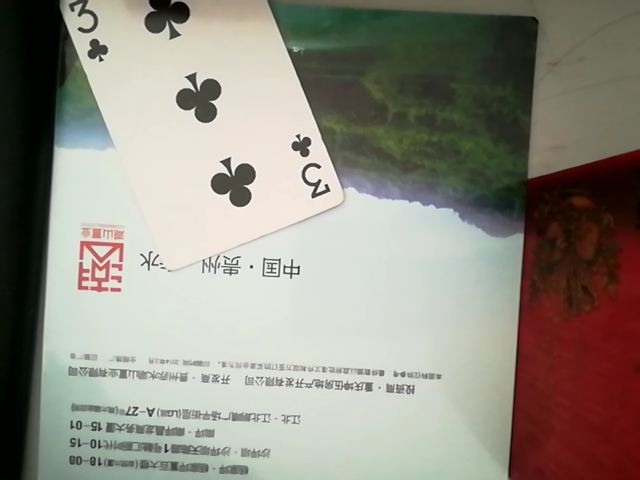mh 3: (64, 0, 326, 273)
